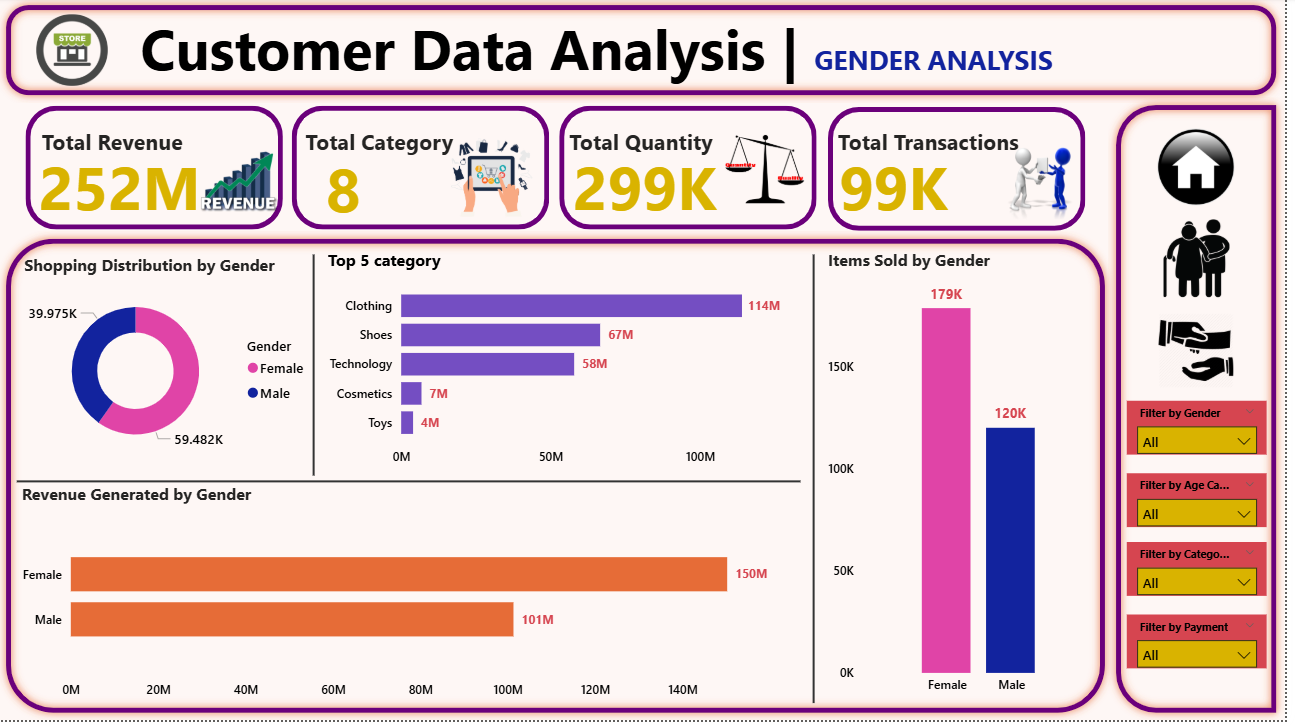

What the dashboard file says about the page in this screenshot:
{"tool":"powerbi","page":{"name":"Gender","canvas":[1280,720],"ordinal":0},"visuals":[{"type":"shape","box":[0,232.6,1109.6,487.6],"z":0},{"type":"shape","box":[27.4,108.2,256.3,123.2],"z":1000},{"type":"shape","box":[0,0,1280,105.7],"z":2000},{"type":"shape","box":[1104.6,99.5,175.4,620.7],"z":3000},{"type":"textbox","box":[136.8,7.5,1056.1,92.1],"z":4000},{"type":"image","box":[1.2,12.4,144.3,80.9],"z":5000},{"type":"image","box":[409.3,135.6,164.2,93.3],"z":6000},{"type":"donutChart","title":"Shopping Distribution by Gender","fields":{"Category":["customer_DA_cleaned.gender"],"Y":["customer_DA_cleaned.Transactions"]},"box":[21.1,255,298.6,212.7],"z":7000},{"type":"clusteredColumnChart","title":"Items Sold by Gender","fields":{"Category":["customer_DA_cleaned.gender"],"Y":["customer_DA_cleaned.Total Quantity"]},"box":[821,250,276.2,452.8],"z":8000},{"type":"clusteredBarChart","title":"Revenue Generated by Gender","fields":{"Y":["customer_DA_cleaned.Total Revenue"],"Category":["customer_DA_cleaned.gender"]},"box":[18.7,482.7,767.5,225.2],"z":9000},{"type":"slicer","fields":{"Values":["customer_DA_cleaned.gender"]},"box":[1123.3,401.8,139.3,53.5],"z":11000},{"type":"slicer","fields":{"Values":["customer_DA_cleaned.age_cat"]},"box":[1123.3,473.9,139.3,53.5],"z":12000},{"type":"slicer","fields":{"Values":["customer_DA_cleaned.category"]},"box":[1123.3,542.4,139.3,53.5],"z":13000},{"type":"slicer","fields":{"Values":["customer_DA_cleaned.payment_method"]},"box":[1123.3,614.5,139.3,53.5],"z":14000},{"type":"shape","box":[558.5,108.2,256.3,123.2],"z":15000},{"type":"shape","box":[826,109.5,256.3,123.2],"z":16000},{"type":"card","fields":{"Values":["customer_DA_cleaned.Total Revenue"]},"box":[21.1,141.8,200.3,89.6],"z":17000},{"type":"card","fields":{"Values":["customer_DA_cleaned.Total Quantity"]},"box":[549.8,141.8,187.8,89.6],"z":18000},{"type":"card","fields":{"Values":["customer_DA_cleaned.Transactions"]},"box":[791.2,141.8,200.3,89.6],"z":19000},{"type":"textbox","box":[38.6,124.4,200.3,62.2],"z":20000},{"type":"textbox","box":[563.5,124.4,200.3,62.2],"z":21000},{"type":"textbox","box":[831,124.4,200.3,62.2],"z":22000},{"type":"clusteredBarChart","title":" Top 5 category","fields":{"Category":["customer_DA_cleaned.category"],"Y":["Sum(customer_DA_cleaned.revenue)"]},"box":[323.4,250,475.2,226.4],"z":23000},{"type":"shape","box":[18.7,455.3,780,53.5],"z":24000},{"type":"shape","box":[771.3,256.3,80.9,446.6],"z":25000},{"type":"shape","box":[273.7,256.3,80.9,220.2],"z":26000},{"type":"shape","box":[292.3,108.2,256.3,123.2],"z":27000},{"type":"card","fields":{"Values":["Count(customer_DA_cleaned.category)"]},"box":[250,143.1,187.8,89.6],"z":28000},{"type":"textbox","box":[301,124.4,200.3,62.2],"z":29000},{"type":"image","box":[194.1,141.8,89.6,82.1],"z":30000},{"type":"image","box":[719,126.9,88.3,88.3],"z":31000},{"type":"image","box":[993.9,143.1,88.3,83.3],"z":32000},{"type":"image","box":[1146.9,121.9,89.6,92.1],"z":34000},{"type":"image","box":[1146.9,309.7,90.8,84.6],"z":35000},{"type":"image","box":[1151.9,216.4,82.1,87.1],"z":36000},{"type":"actionButton","box":[1142,128.1,99.5,85.8],"z":37000},{"type":"actionButton","box":[1142,217.7,99.5,85.8],"z":38000},{"type":"actionButton","box":[1142,308.5,99.5,85.8],"z":39000}]}

Visuals, with their boxes in screenshot pixels (x1, y1, x2, y2), scaled from the page's 1280x720 canvas onto the 1295x726 screenshot:
shape: [0,235,1123,725]
shape: [28,109,287,233]
shape: [0,0,1294,107]
shape: [1118,100,1294,725]
textbox: [138,8,1207,100]
image: [1,13,147,94]
image: [414,137,580,231]
"Shopping Distribution by Gender" donutChart: [21,257,323,472]
"Items Sold by Gender" clusteredColumnChart: [831,252,1110,709]
"Revenue Generated by Gender" clusteredBarChart: [19,487,795,714]
slicer - customer_DA_cleaned.gender: [1136,405,1277,459]
slicer - customer_DA_cleaned.age_cat: [1136,478,1277,532]
slicer - customer_DA_cleaned.category: [1136,547,1277,601]
slicer - customer_DA_cleaned.payment_method: [1136,620,1277,674]
shape: [565,109,824,233]
shape: [836,110,1095,235]
card - customer_DA_cleaned.Total Revenue: [21,143,224,233]
card - customer_DA_cleaned.Total Quantity: [556,143,746,233]
card - customer_DA_cleaned.Transactions: [800,143,1003,233]
textbox: [39,125,242,188]
textbox: [570,125,773,188]
textbox: [841,125,1043,188]
" Top 5 category" clusteredBarChart: [327,252,808,480]
shape: [19,459,808,513]
shape: [780,258,862,709]
shape: [277,258,359,480]
shape: [296,109,555,233]
card - Count(customer_DA_cleaned.category): [253,144,443,235]
textbox: [305,125,507,188]
image: [196,143,287,226]
image: [727,128,817,217]
image: [1006,144,1095,228]
image: [1160,123,1251,216]
image: [1160,312,1252,398]
image: [1165,218,1248,306]
actionButton: [1155,129,1256,216]
actionButton: [1155,220,1256,306]
actionButton: [1155,311,1256,398]
